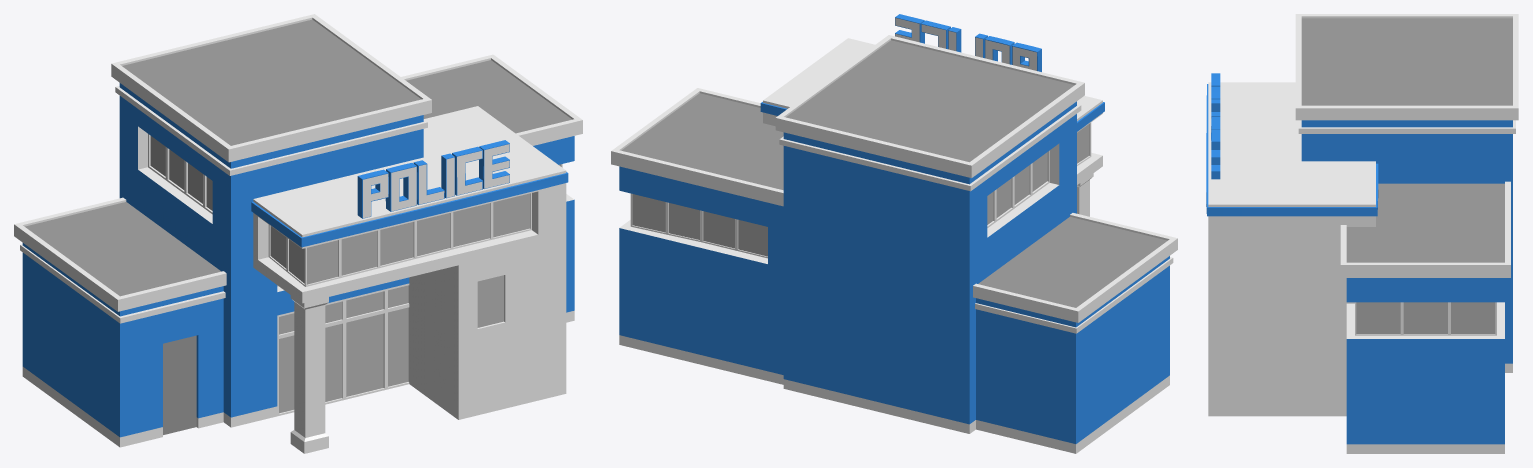
Rendered from SM_Policestation_01.FBX.
3 renders of one model, left to right at view 1: azimuth 30°, elevation 25°; view 2: azimuth 150°, elevation 25°; view 3: azimuth 270°, elevation 25°, orthographic. The views are drawn at different scales.
Visible parts, largest first — view 1: SM_Policestation_01; view 2: SM_Policestation_01; view 3: SM_Policestation_01.
Boxes of the visible parts, x1=… form: SM_Policestation_01: x1=14, y1=14, x2=582, y2=453; SM_Policestation_01: x1=611, y1=14, x2=1177, y2=453; SM_Policestation_01: x1=1206, y1=14, x2=1518, y2=453.
Bounding box in the file's own units: 10 × 5.59 × 5.92.
1 material, 1 textured.
